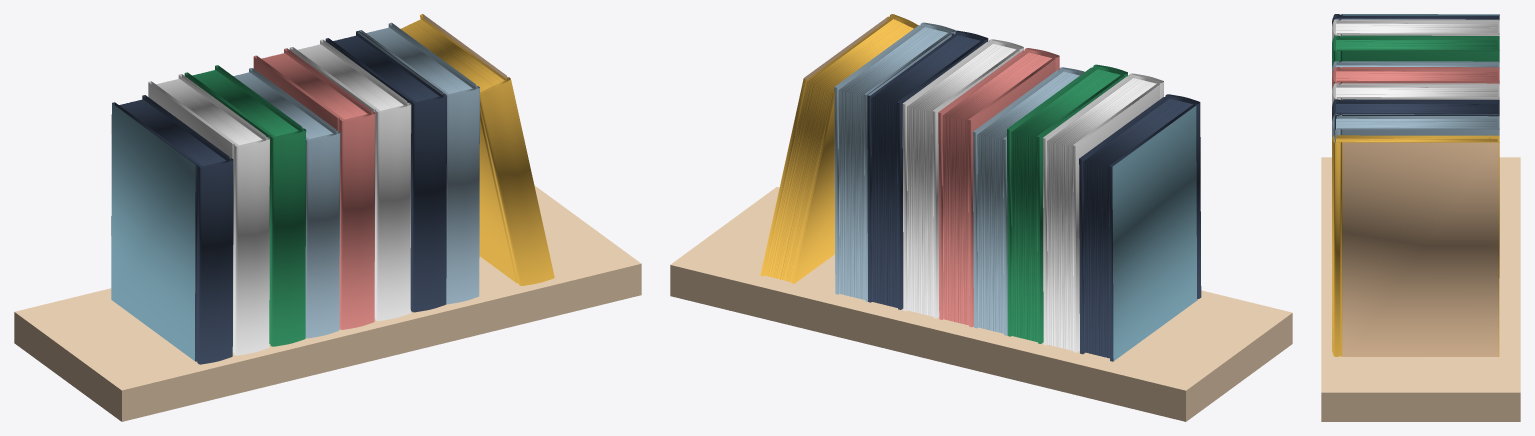
Rendered from book_shelf.obj.
The picture shows the model from 3 angles, left to right: view 1: azimuth 30°, elevation 25°; view 2: azimuth 150°, elevation 25°; view 3: azimuth 270°, elevation 25°; orthographic projection. The views are drawn at different scales.
Parts seen in each view (by area): view 1: pasted__pasted__Book01; view 2: pasted__pasted__Book01; view 3: pasted__pasted__Book01.
Part boxes in pixels (bbox=[...]): pasted__pasted__Book01: bbox=[14, 14, 641, 421]; pasted__pasted__Book01: bbox=[670, 14, 1292, 421]; pasted__pasted__Book01: bbox=[1321, 14, 1520, 421].
Size of the model in its own units: 1.12 by 0.4975 by 0.4021.
Materials: 10 (10 with a texture image).
